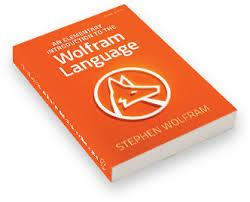Paper: (6, 4, 250, 192)
